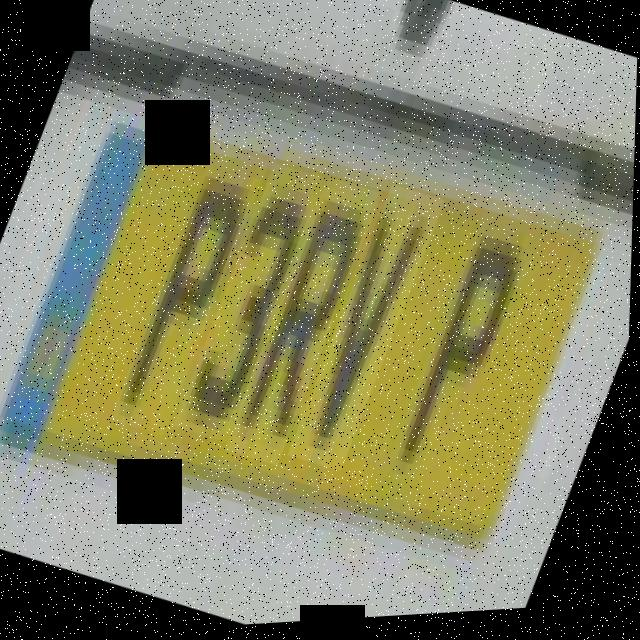3: (175, 164, 330, 448)
P: (385, 207, 548, 502), (113, 146, 271, 441)
R: (227, 178, 384, 472)
V: (291, 187, 448, 479)
